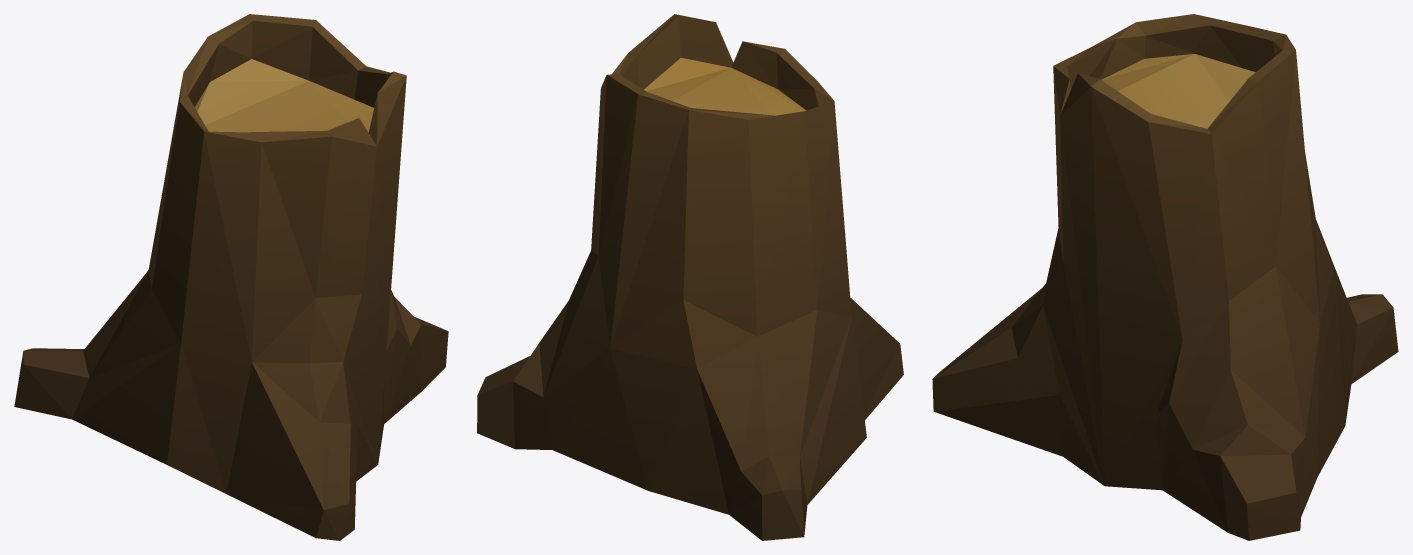
Rendered from ResourcesTree4.fbx.
The picture shows the model from 3 angles, left to right: view 1: azimuth 30°, elevation 25°; view 2: azimuth 150°, elevation 25°; view 3: azimuth 270°, elevation 25°; orthographic projection. The views are drawn at different scales.
Parts seen in each view (by area): view 1: ResourcesTree4; view 2: ResourcesTree4; view 3: ResourcesTree4.
Boxes of the visible parts, left/top/right/bottom form: ResourcesTree4: left=14, top=14, right=448, bottom=540; ResourcesTree4: left=477, top=14, right=903, bottom=540; ResourcesTree4: left=932, top=14, right=1398, bottom=540.
Bounding box in the file's own units: 50.86 × 50.83 × 51.54.
